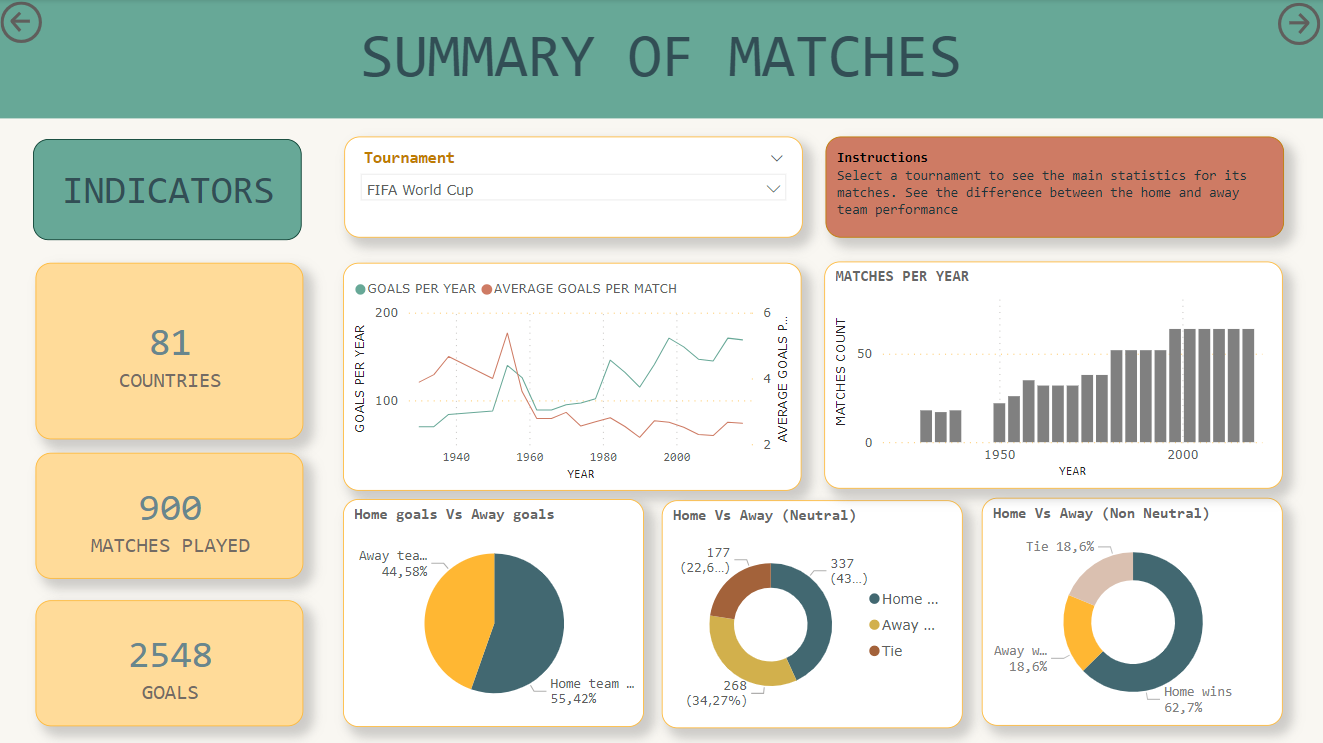

This screenshot's page, from the dashboard's own definition file:
{"tool":"powerbi","page":{"name":"SUMMARY","canvas":[1280,720],"ordinal":1},"visuals":[{"type":"textbox","box":[0,0,1280,115.4],"z":0},{"type":"card","fields":{"Values":["teams_results.countries_num"]},"box":[36.2,253.9,258.2,170.3],"z":1000},{"type":"card","fields":{"Values":["results.MATCHES_COUNT"]},"box":[35.7,438,258.2,121.4],"z":2000},{"type":"card","fields":{"Values":["results.GOALS"]},"box":[35.7,579.6,258.2,121.4],"z":3000},{"type":"lineChart","title":"Goals per year and average per match","fields":{"Y":["results.GOALS"],"Category":["calendar.date.Variación.Jerarquía de fechas.Año"],"Y2":["results.AVERAGE_GOALS_PER_MATCH"]},"box":[333.1,253.9,442.2,219.7],"z":4000},{"type":"pieChart","title":"Home goals Vs Away  goals","fields":{"Y":["Sum(results.home_score)","Sum(results.away_score)"]},"box":[333.2,482,290,220.2],"z":5000},{"type":"slicer","fields":{"Values":["results.tournament"]},"box":[333.7,133.2,442.2,97.5],"z":6000},{"type":"donutChart","title":"Home Vs Away (Neutral)","fields":{"Y":["results.home_win_count","results.away_win_count","results.tie_count"]},"box":[640.3,483.2,290.4,220.2],"z":7000},{"type":"donutChart","title":"Home Vs Away  (Non Neutral) ","fields":{"Y":["results.home_win_count","results.away_win_count","results.tie_count"]},"box":[949.7,480.8,290.4,220.2],"z":8000},{"type":"textbox","box":[797.9,133.2,442.2,97.5],"z":9000},{"type":"textbox","box":[34.3,134.6,259.6,97.5],"z":10000},{"type":"clusteredColumnChart","title":"MATCHES PER YEAR","fields":{"Category":["calendar.date.Variación.Jerarquía de fechas.Año"],"Y":["CountNonNull(results.match_id)"]},"box":[797.4,253.5,442.7,219],"z":11000},{"type":"actionButton","box":[1235.3,3.6,40.5,40.5],"z":12000},{"type":"actionButton","box":[2.4,2.4,39.8,39.8],"z":13000}]}

Visuals, with their boxes in screenshot pixels (x1, y1, x2, y2), scaled from the page's 1280x720 canvas onto the 1323x743 screenshot:
textbox: pyautogui.locateOnScreen(0, 0, 1322, 119)
card - teams_results.countries_num: pyautogui.locateOnScreen(37, 262, 304, 438)
card - results.MATCHES_COUNT: pyautogui.locateOnScreen(37, 452, 304, 577)
card - results.GOALS: pyautogui.locateOnScreen(37, 598, 304, 723)
"Goals per year and average per match" lineChart: pyautogui.locateOnScreen(344, 262, 801, 489)
"Home goals Vs Away  goals" pieChart: pyautogui.locateOnScreen(344, 497, 644, 725)
slicer - results.tournament: pyautogui.locateOnScreen(345, 137, 802, 238)
"Home Vs Away (Neutral)" donutChart: pyautogui.locateOnScreen(662, 499, 962, 726)
"Home Vs Away  (Non Neutral) " donutChart: pyautogui.locateOnScreen(982, 496, 1282, 723)
textbox: pyautogui.locateOnScreen(825, 137, 1282, 238)
textbox: pyautogui.locateOnScreen(35, 139, 304, 240)
"MATCHES PER YEAR" clusteredColumnChart: pyautogui.locateOnScreen(824, 262, 1282, 488)
actionButton: pyautogui.locateOnScreen(1277, 4, 1319, 46)
actionButton: pyautogui.locateOnScreen(2, 2, 44, 44)
